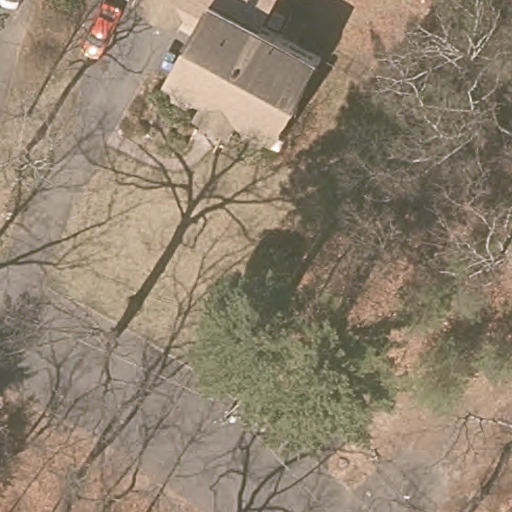DT: (212, 397, 244, 427)
